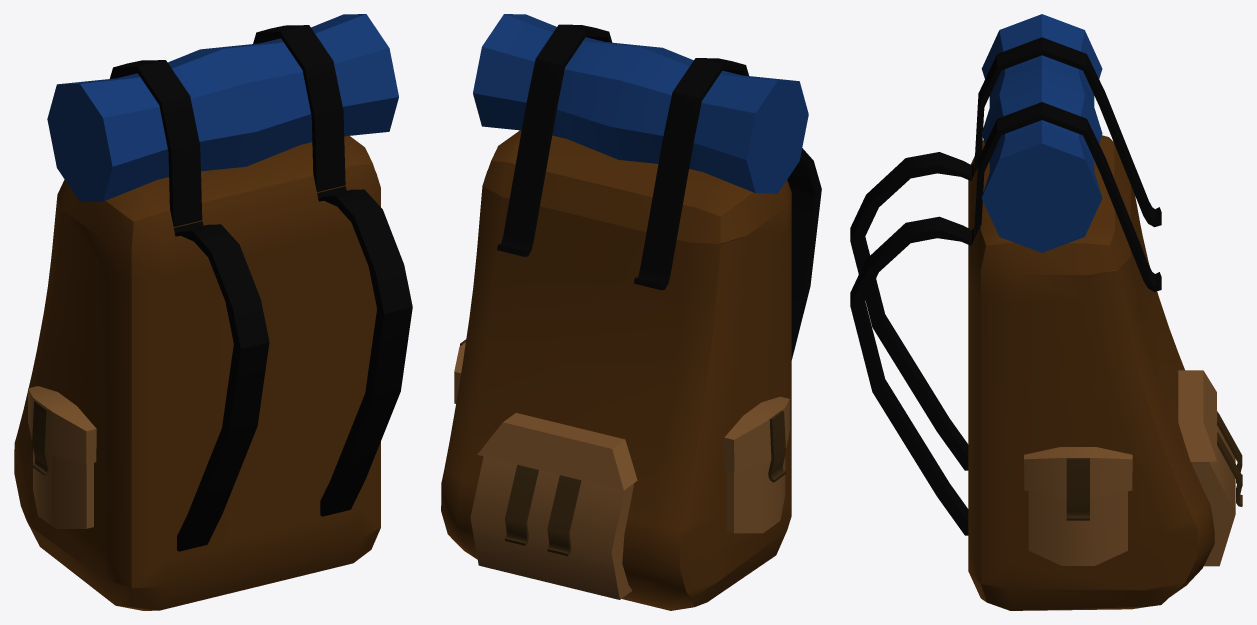
The model's file is BackPack.fbx.
3 views of the same model, side by side, from view 1: azimuth 30°, elevation 25°; view 2: azimuth 150°, elevation 25°; view 3: azimuth 270°, elevation 25° (orthographic). The views are drawn at different scales.
Parts seen in each view (by area): view 1: Backpack; view 2: Backpack; view 3: Backpack.
Boxes of the visible parts, x1=… form: Backpack: x1=14, y1=14, x2=412, y2=610; Backpack: x1=441, y1=14, x2=821, y2=610; Backpack: x1=850, y1=14, x2=1242, y2=610.
Bounding box in the file's own units: 1.8 × 2.75 × 2.
